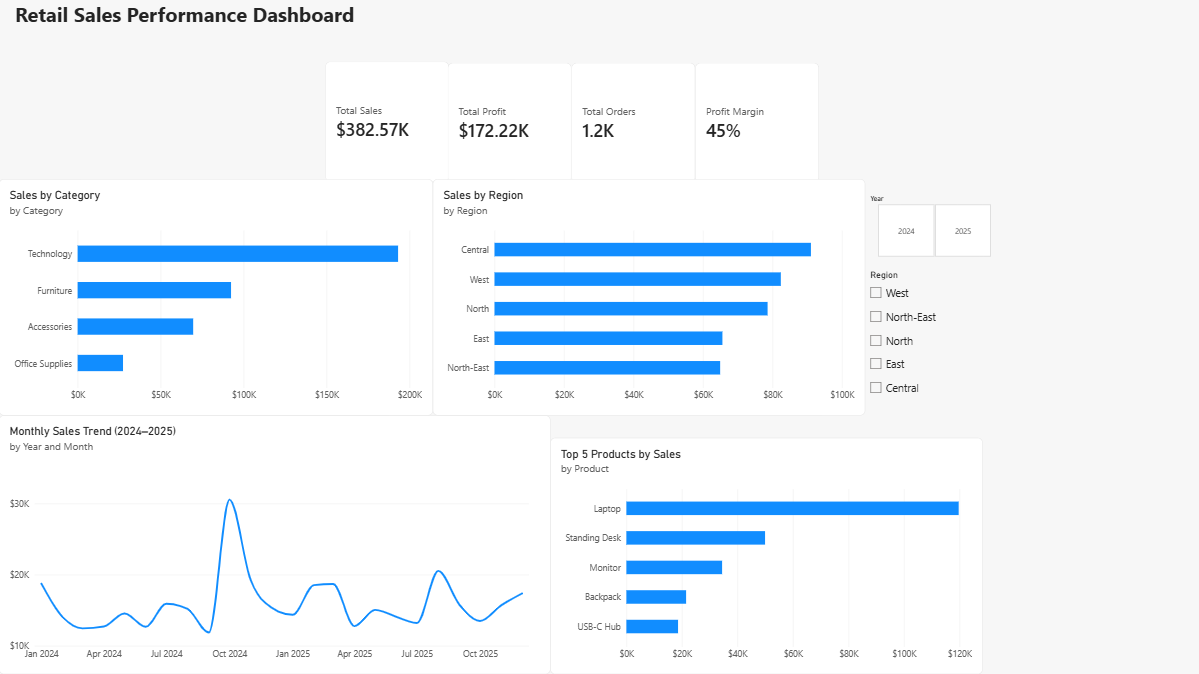

This screenshot's page, from the dashboard's own definition file:
{"tool":"powerbi","page":{"name":"Page 1","canvas":[1920,1080],"ordinal":0},"visuals":[{"type":"cardVisual","fields":{"Data":["Sum(retail_sales_powerbi_dataset.Sales)"]},"box":[522,100,198,192],"z":0},{"type":"cardVisual","fields":{"Data":["Sum(retail_sales_powerbi_dataset.Profit)"]},"box":[718,102.4,198,192],"z":1},{"type":"cardVisual","fields":{"Data":["Count(retail_sales_powerbi_dataset.Order ID)"]},"box":[916,102.4,198,192],"z":2},{"type":"cardVisual","fields":{"Data":["retail_sales_powerbi_dataset.Profit Margin"]},"box":[1114,102.4,198,192],"z":3},{"type":"lineChart","fields":{"Category":["retail_sales_powerbi_dataset.Order Date.Variation.Date Hierarchy.Year","retail_sales_powerbi_dataset.Order Date.Variation.Date Hierarchy.Month"],"Y":["Sum(retail_sales_powerbi_dataset.Sales)"]},"box":[0,666,882,414],"z":4},{"type":"clusteredBarChart","fields":{"Category":["retail_sales_powerbi_dataset.Region"],"Y":["Sum(retail_sales_powerbi_dataset.Sales)"]},"box":[694,288,692,378],"z":5},{"type":"clusteredBarChart","fields":{"Category":["retail_sales_powerbi_dataset.Category"],"Y":["Sum(retail_sales_powerbi_dataset.Sales)"]},"box":[0,288,694,378],"z":6},{"type":"barChart","fields":{"Category":["retail_sales_powerbi_dataset.Product"],"Y":["Sum(retail_sales_powerbi_dataset.Sales)"]},"box":[882,702,692,378],"z":7},{"type":"slicer","fields":{"Values":["retail_sales_powerbi_dataset.Order Date.Variation.Date Hierarchy.Year"]},"box":[1386,312,220,102],"z":8},{"type":"slicer","fields":{"Values":["retail_sales_powerbi_dataset.Region"]},"box":[1386,432,220,234],"z":9},{"type":"textbox","box":[0,2,594,52],"z":10}]}

Visuals, with their boxes in screenshot pixels (x1, y1, x2, y2), scaled from the page's 1920x1080 canvas onto the 1199x674 screenshot:
cardVisual - Sum(retail_sales_powerbi_dataset.Sales): bbox(326, 62, 450, 182)
cardVisual - Sum(retail_sales_powerbi_dataset.Profit): bbox(448, 64, 572, 184)
cardVisual - Count(retail_sales_powerbi_dataset.Order ID): bbox(572, 64, 696, 184)
cardVisual - retail_sales_powerbi_dataset.Profit Margin: bbox(696, 64, 819, 184)
lineChart - retail_sales_powerbi_dataset.Order Date.Variation.Date Hierarchy.Year x retail_sales_powerbi_dataset.Order Date.Variation.Date Hierarchy.Month: bbox(0, 416, 551, 673)
clusteredBarChart - retail_sales_powerbi_dataset.Region x Sum(retail_sales_powerbi_dataset.Sales): bbox(433, 180, 866, 416)
clusteredBarChart - retail_sales_powerbi_dataset.Category x Sum(retail_sales_powerbi_dataset.Sales): bbox(0, 180, 433, 416)
barChart - retail_sales_powerbi_dataset.Product x Sum(retail_sales_powerbi_dataset.Sales): bbox(551, 438, 983, 673)
slicer - retail_sales_powerbi_dataset.Order Date.Variation.Date Hierarchy.Year: bbox(866, 195, 1003, 258)
slicer - retail_sales_powerbi_dataset.Region: bbox(866, 270, 1003, 416)
textbox: bbox(0, 1, 371, 34)
